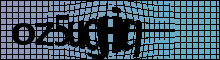5: (54, 13, 69, 48)
g: (84, 13, 109, 59)
i: (110, 6, 123, 56)
o: (12, 22, 35, 45)
q: (124, 17, 144, 60)
u: (67, 21, 84, 48)
z: (34, 22, 54, 47)
